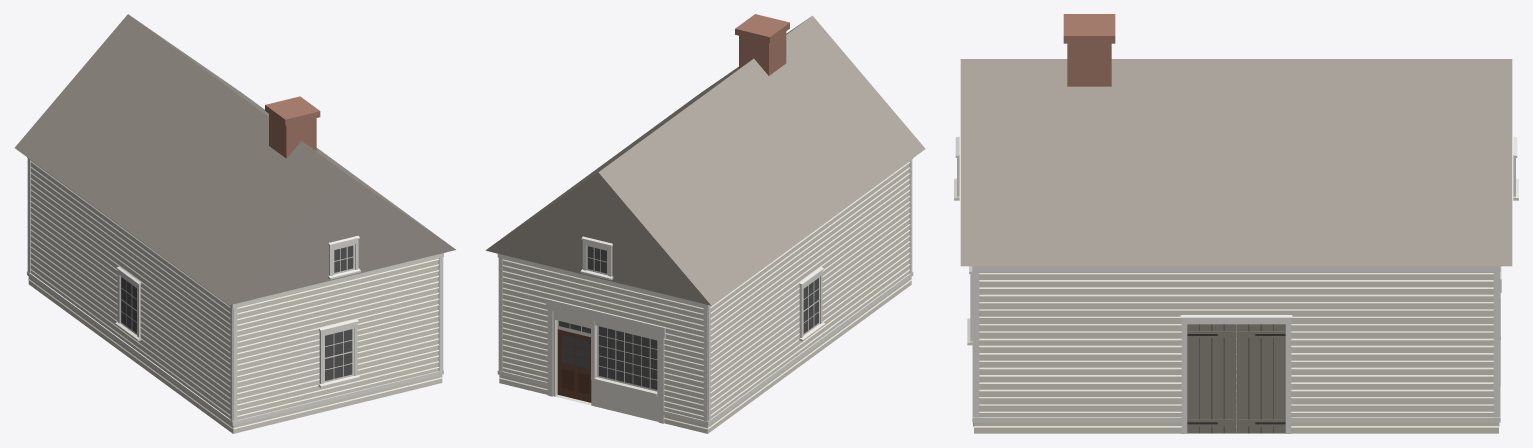
The model's file is recon_1835_core_c2_014__inferred_1835.glb.
3 renders of one model, left to right at view 1: azimuth 30°, elevation 25°; view 2: azimuth 150°, elevation 25°; view 3: azimuth 270°, elevation 25°, orthographic. The views are drawn at different scales.
Parts seen in each view (by area): view 1: recon_1835_core_c2_014__inferred_1835; view 2: recon_1835_core_c2_014__inferred_1835; view 3: recon_1835_core_c2_014__inferred_1835.
Boxes of the visible parts, x1,y1,x2,y2 form: recon_1835_core_c2_014__inferred_1835: (15, 14, 455, 433); recon_1835_core_c2_014__inferred_1835: (485, 14, 925, 433); recon_1835_core_c2_014__inferred_1835: (954, 14, 1518, 433).
Bounding box in the file's own units: 6.34 × 7.14 × 10.65.
